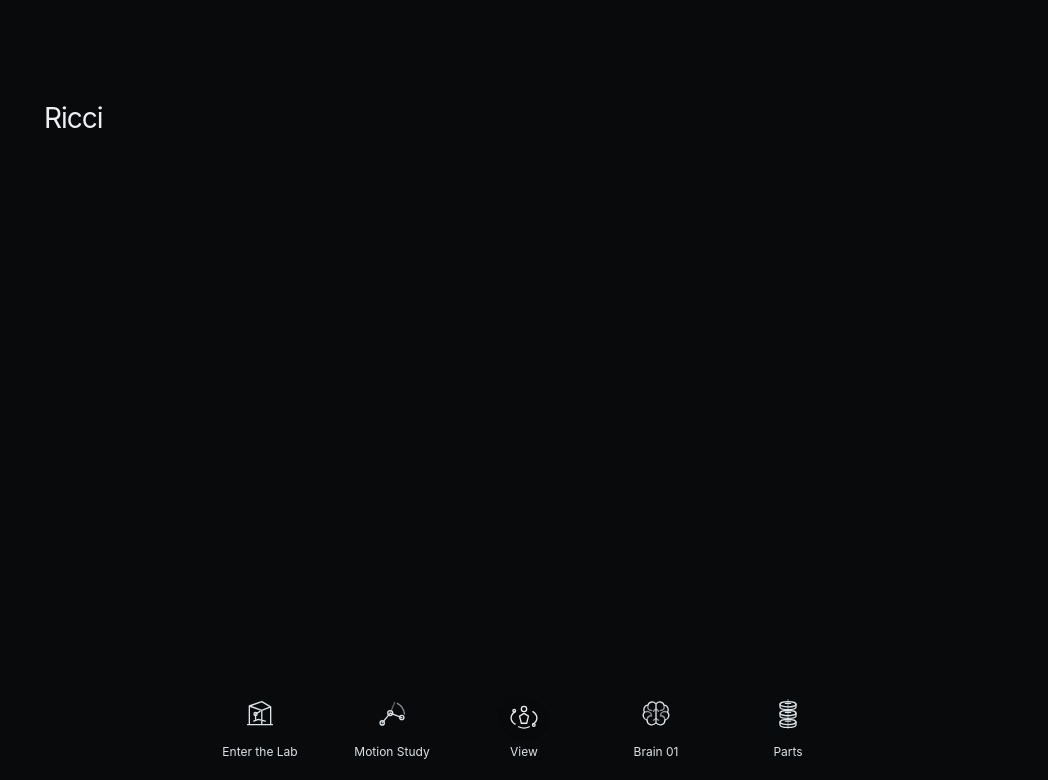
Test case: retains camera ownership, selection and scene node across lab and inspector changes
Later steps or results of the test are not shown.
Click the button "Enter the Lab" at point(260, 726), box left=208, top=693, right=312, bottom=760
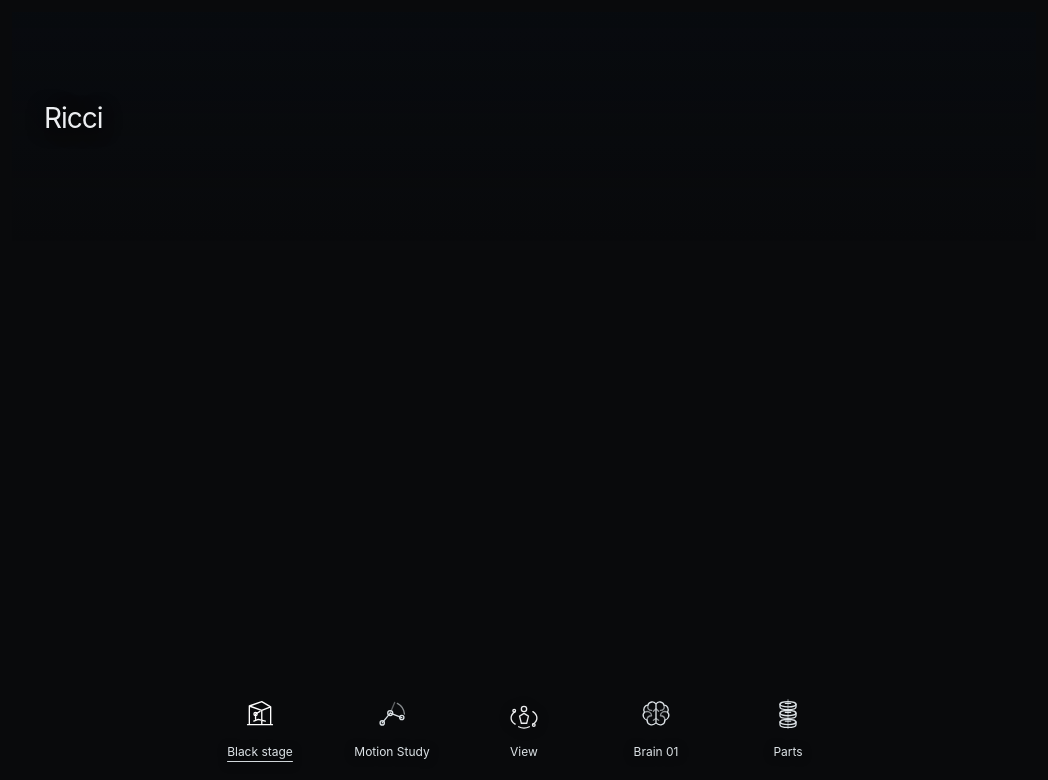
Click the button "Black stage" at point(260, 726), box left=208, top=693, right=312, bottom=760
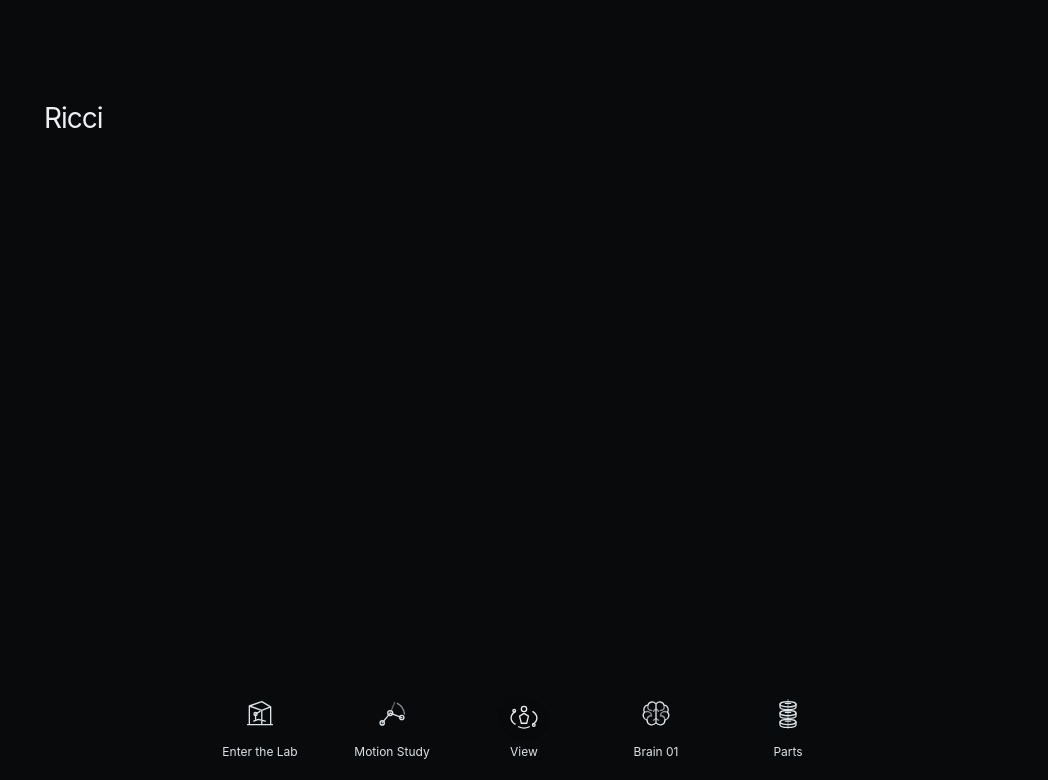
Click the button "Enter the Lab" at point(260, 726), box left=208, top=693, right=312, bottom=760
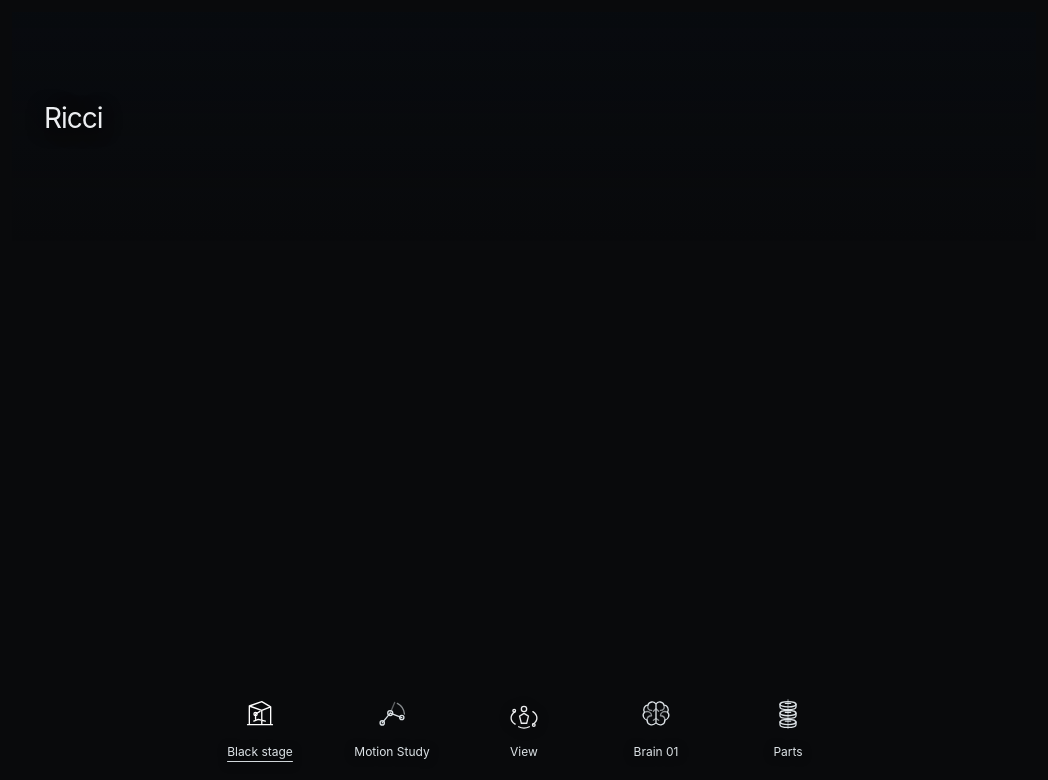
expect the element showing "Ricci Black stage Motion Study View Brain 01 Parts" has attribute data-stage="lab": met
